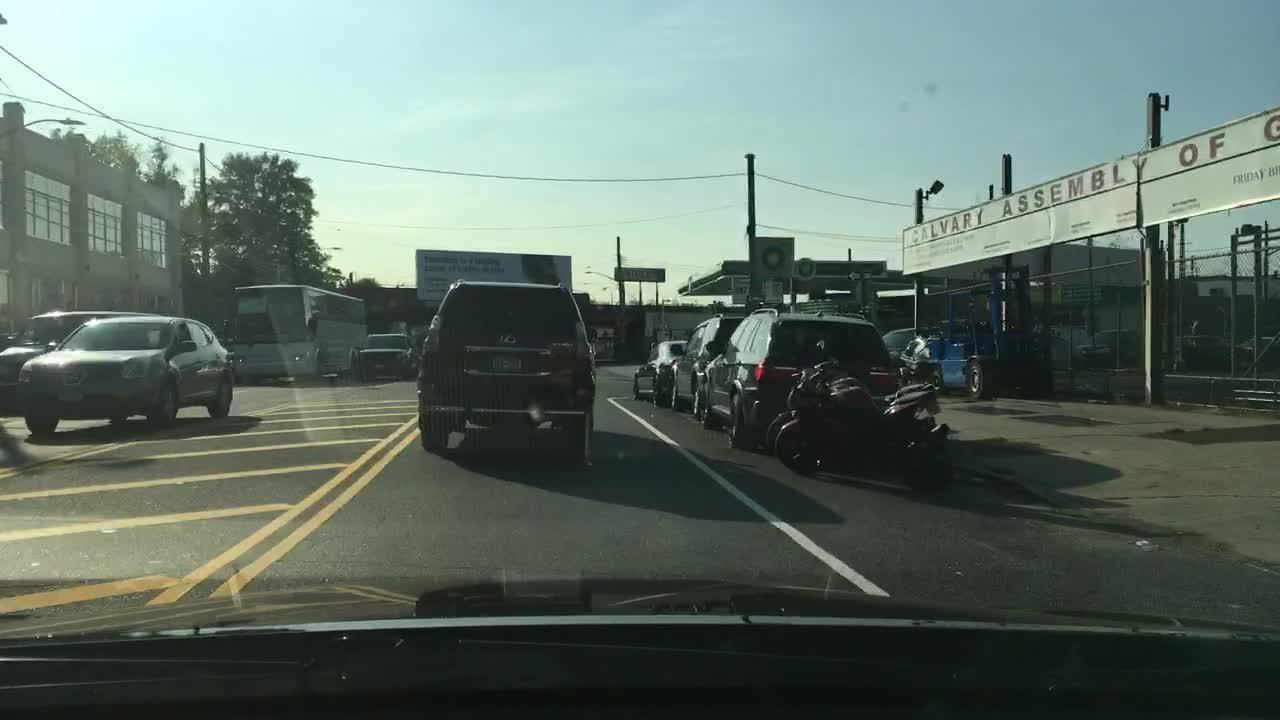lexus: (496, 330, 521, 350)
